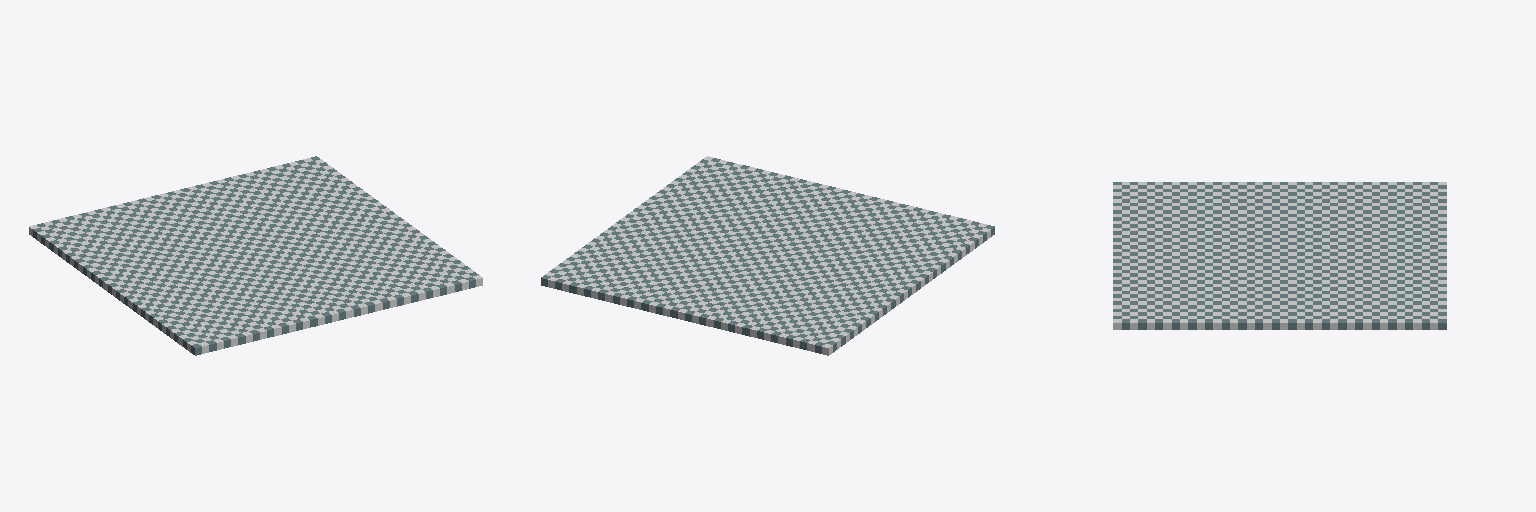
3 renders of one model, left to right at view 1: azimuth 30°, elevation 25°; view 2: azimuth 150°, elevation 25°; view 3: azimuth 270°, elevation 25°, orthographic.
Parts seen in each view (by area): view 1: object 1; view 2: object 1; view 3: object 1.
Part boxes in pixels (x1,y1,x2,y2): object 1: (29,156,482,355); object 1: (541,156,994,355); object 1: (1113,182,1446,329).
Bounding box in the file's own units: 4 × 0.1 × 4.
Materials: 1 (1 with a texture image).